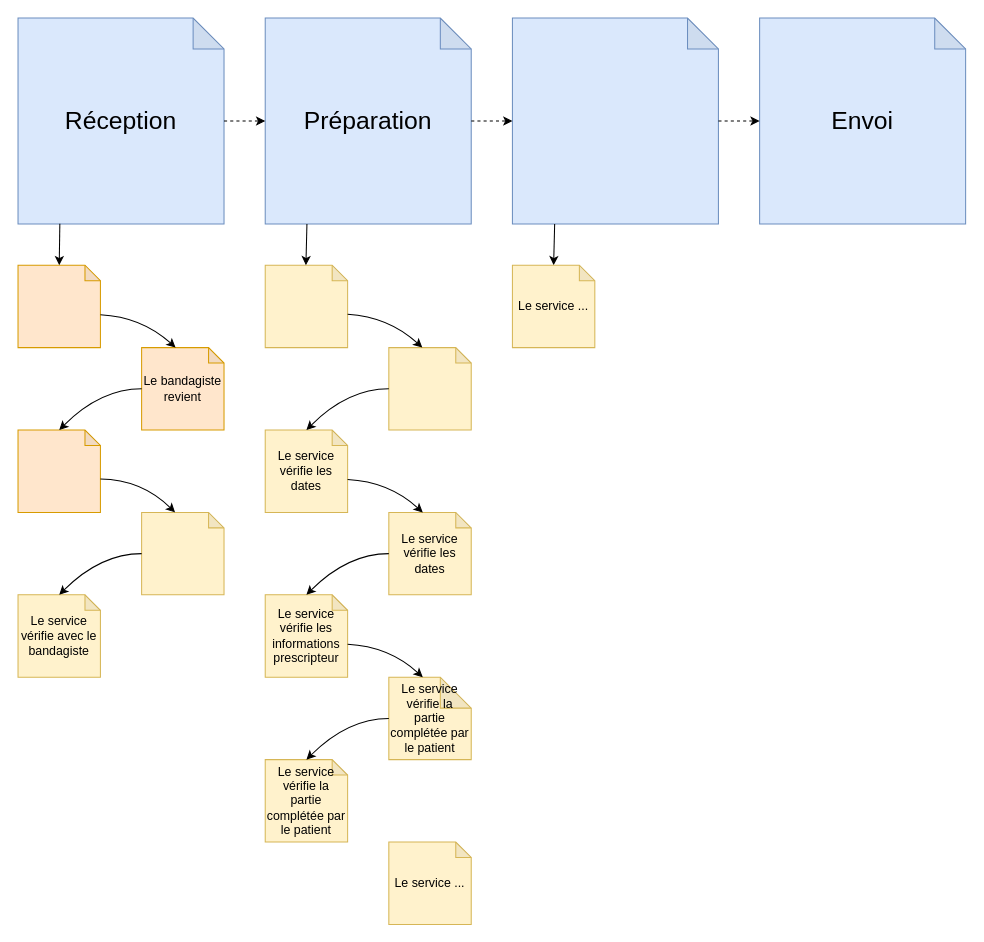
This 984x942 diagram has some shape labels left out. The centre of each missing label's shape, as x and y in pixels:
"Facturation" goes at pixel 614 120.
"Le bandagiste apporte les annexes" goes at pixel 58 470.
"Le bandagiste récupère les documents des patients" goes at pixel 58 306.
"Le service prend une annexe reçue" goes at pixel 306 306.
"Le service vérifie les infos patient et mutuelle" goes at pixel 429 388.
"Service recupère les annexes" goes at pixel 182 553.
